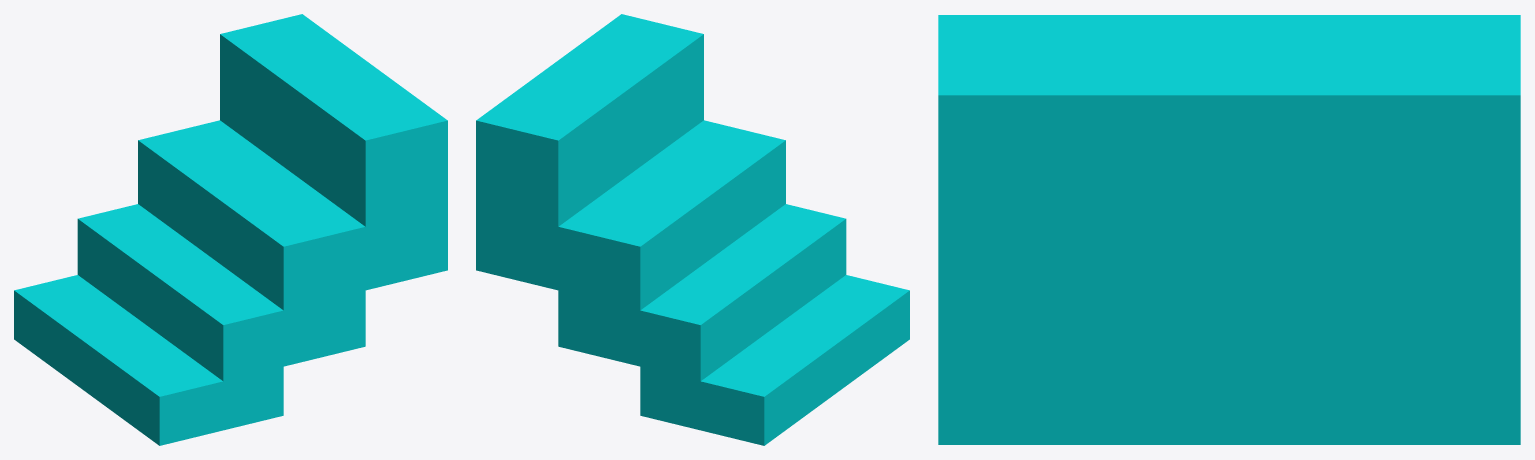
The model's file is neonLadder.fbx.
The picture shows the model from 3 angles, left to right: view 1: azimuth 30°, elevation 25°; view 2: azimuth 150°, elevation 25°; view 3: azimuth 270°, elevation 25°; orthographic projection. The views are drawn at different scales.
Parts seen in each view (by area): view 1: pCube1; view 2: pCube1; view 3: pCube1.
Part boxes in pixels (x1=…): pCube1: x1=14, y1=14, x2=447, y2=445; pCube1: x1=476, y1=14, x2=909, y2=445; pCube1: x1=938, y1=15, x2=1520, y2=444.
Size of the model in its own units: 3.5 by 2.96 by 3.06.
